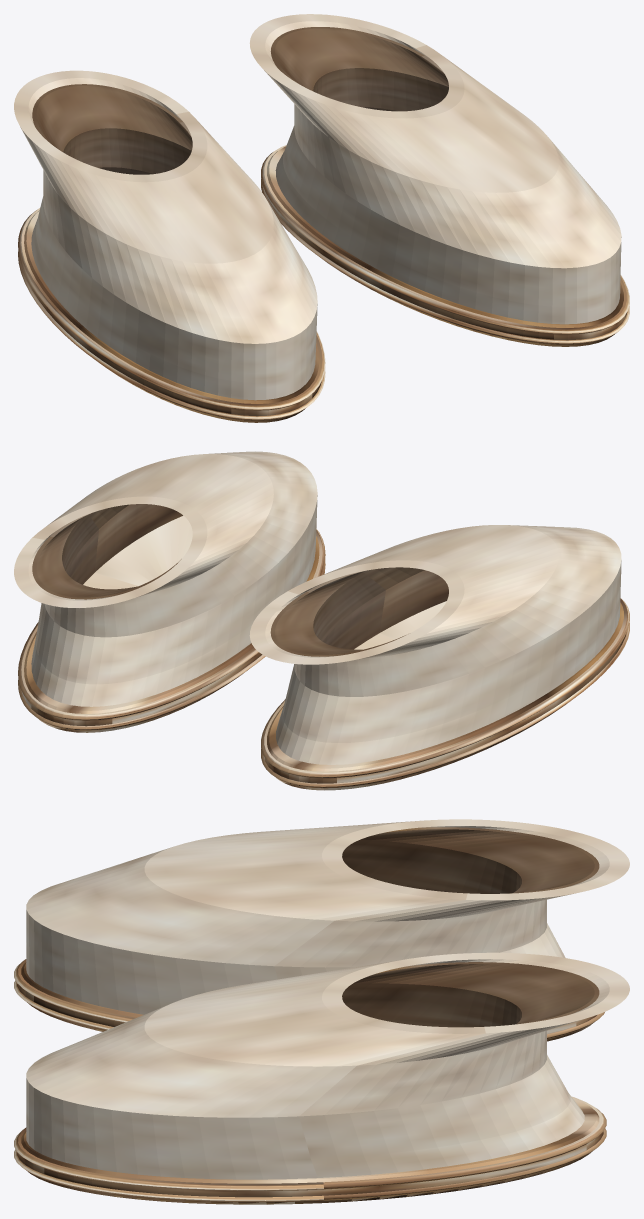
3 views of the same model, one above another, from view 1: azimuth 30°, elevation 25°; view 2: azimuth 150°, elevation 25°; view 3: azimuth 270°, elevation 25° (orthographic). The views are drawn at different scales.
Visible parts, largest first — view 1: right_upper, left_upper, right_lining, left_lining, right_sole, left_sole, right_rope_band_1, left_rope_band_1, right_rope_band_0, left_rope_band_0; view 2: left_upper, right_upper, left_lining, right_lining, left_sole, right_sole, left_rope_band_1, right_rope_band_1, left_rope_band_0, right_rope_band_0; view 3: right_upper, left_upper, left_lining, right_lining, right_sole, right_rope_band_1, right_rope_band_0, left_sole, left_rope_band_1, left_rope_band_0.
Boxes of the visible parts, x1,y1,x2,y2 form: right_upper: [249, 14, 621, 324]; left_upper: [14, 70, 317, 400]; right_lining: [270, 27, 448, 111]; left_lining: [32, 84, 192, 174]; right_sole: [264, 146, 627, 346]; left_sole: [23, 210, 321, 422]; right_rope_band_1: [261, 145, 629, 334]; left_rope_band_1: [18, 208, 325, 410]; right_rope_band_0: [261, 179, 629, 344]; left_rope_band_0: [18, 251, 325, 420]; left_upper: [249, 525, 621, 764]; right_upper: [14, 451, 317, 706]; left_lining: [270, 567, 448, 656]; right_lining: [32, 504, 182, 599]; left_sole: [263, 602, 625, 790]; right_sole: [22, 536, 319, 732]; left_rope_band_1: [261, 598, 629, 778]; right_rope_band_1: [18, 529, 325, 720]; left_rope_band_0: [261, 623, 629, 788]; right_rope_band_0: [18, 560, 325, 730]; right_upper: [26, 952, 629, 1179]; left_upper: [26, 819, 629, 1014]; left_lining: [342, 827, 599, 893]; right_lining: [342, 962, 599, 1027]; right_sole: [17, 1097, 603, 1204]; right_rope_band_1: [14, 1096, 606, 1190]; right_rope_band_0: [14, 1128, 606, 1202]; left_sole: [17, 962, 596, 1041]; left_rope_band_1: [14, 959, 136, 1022]; left_rope_band_0: [14, 980, 604, 1039].
Size of the model in its own units: 106 by 28.52 by 105.
Materials: 3 (3 with a texture image).
